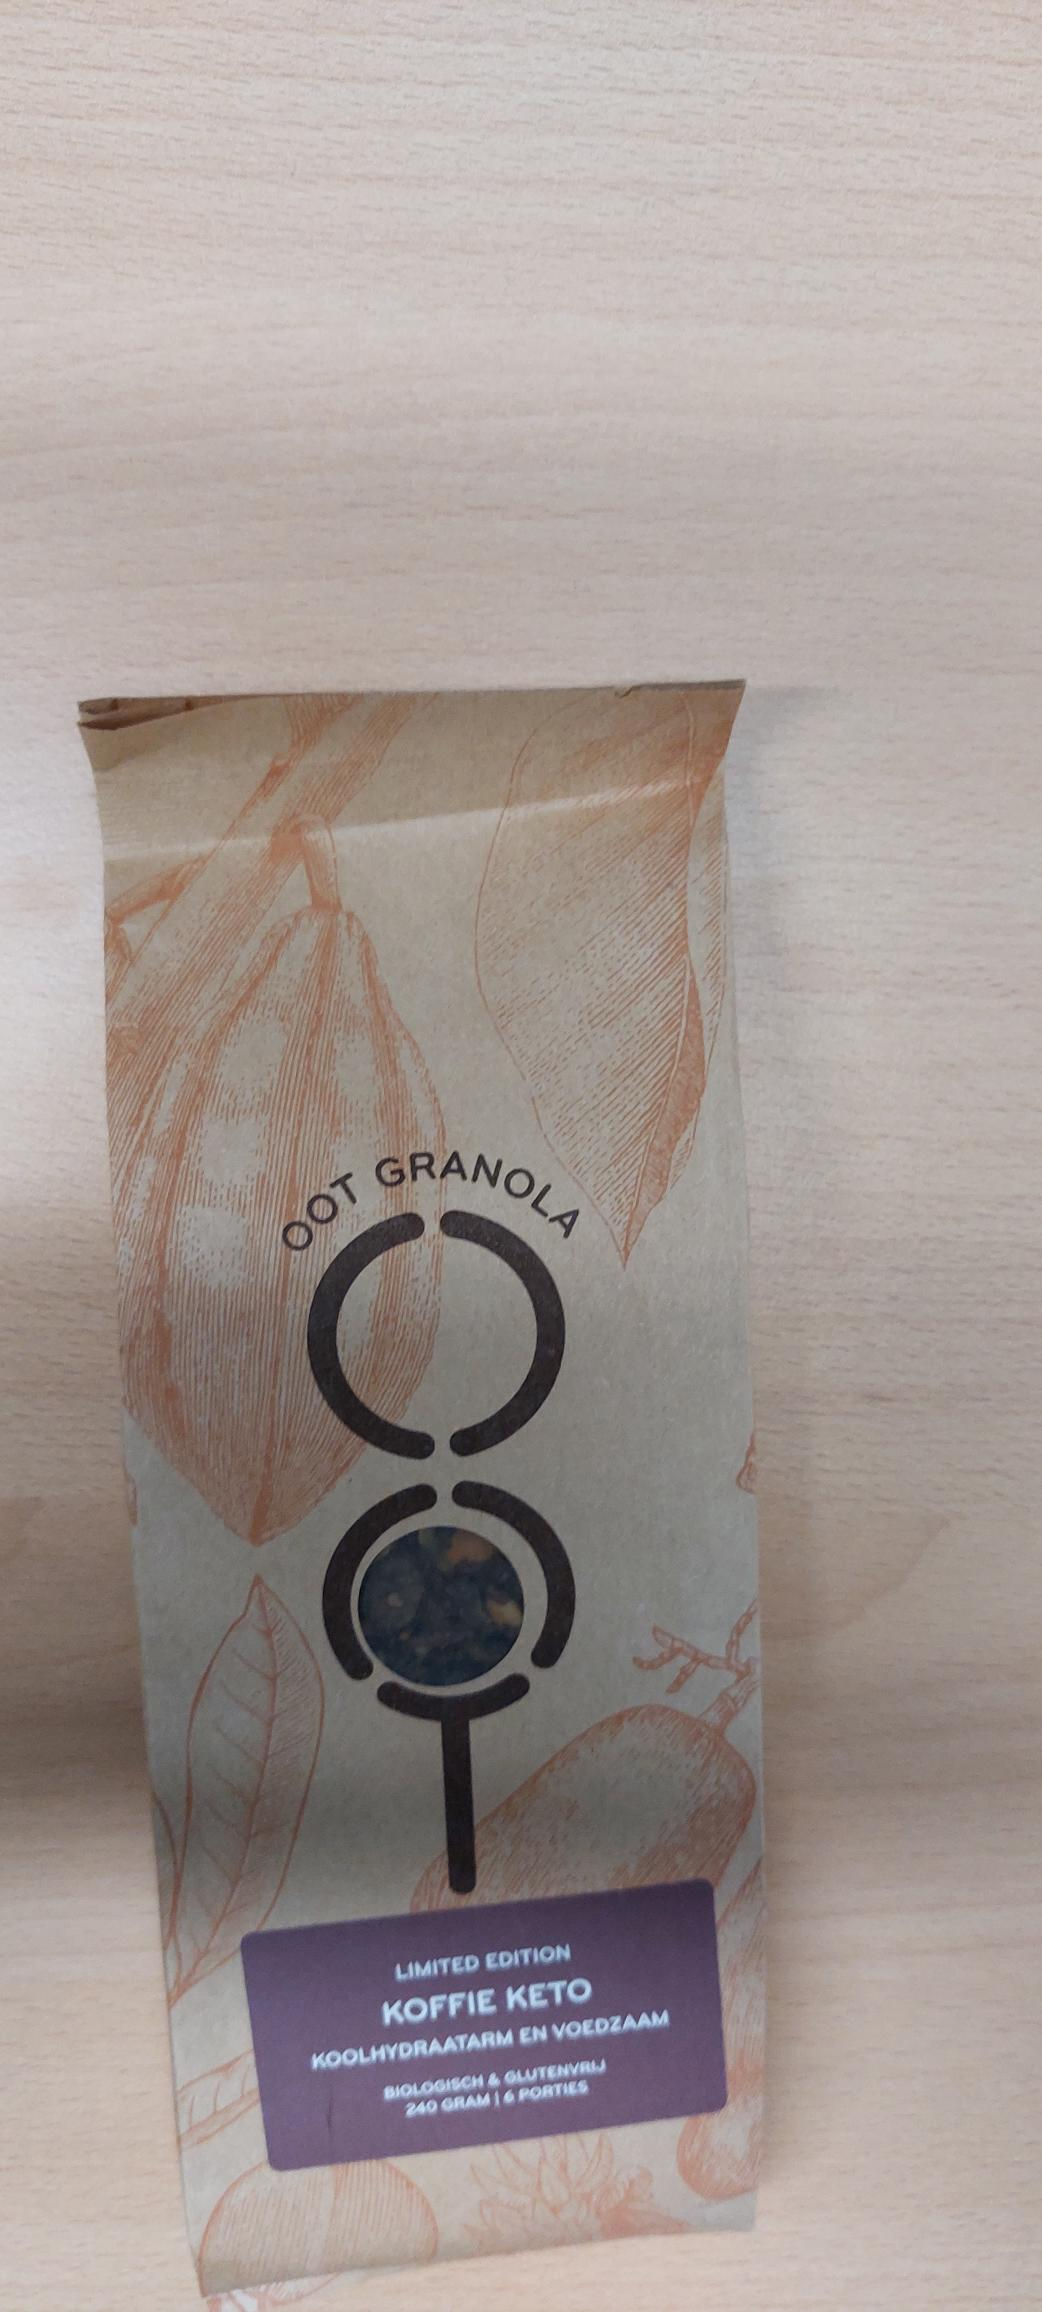KoffieKeto: (234, 1929, 716, 2134)
